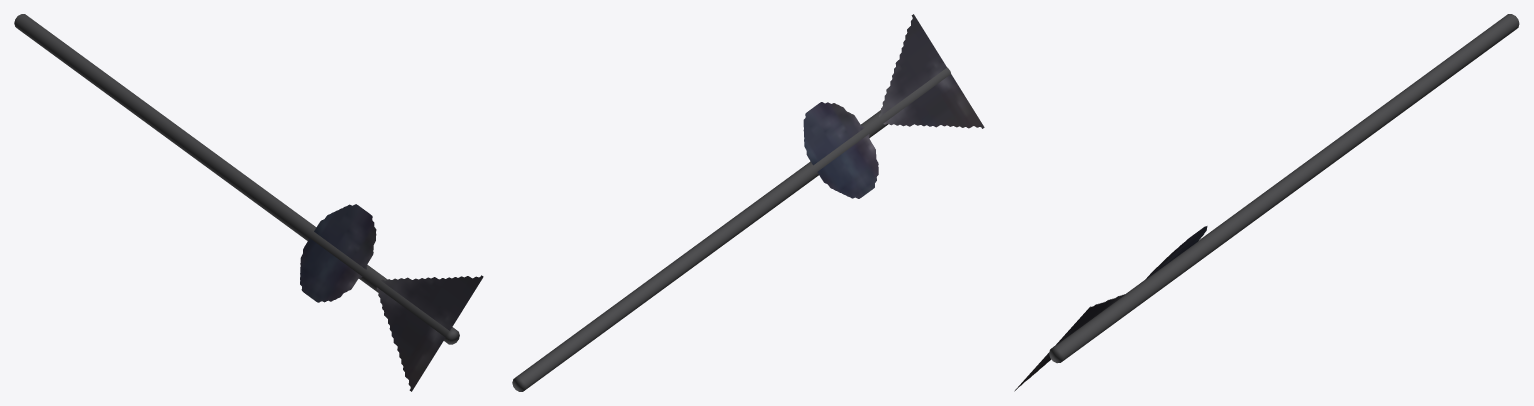
The model's file is sign_3.glb.
3 views of the same model, side by side, from view 1: azimuth 30°, elevation 25°; view 2: azimuth 150°, elevation 25°; view 3: azimuth 330°, elevation 25° (orthographic). The views are drawn at different scales.
Parts seen in each view (by area): view 1: sign_3; view 2: sign_3; view 3: sign_3.
Boxes of the visible parts, x1,y1,x2,y2 form: sign_3: (14,14,483,391); sign_3: (512,14,984,391); sign_3: (1014,14,1519,391).
Bounding box in the file's own units: 0.00767 × 0.00994 × 0.0796.
2 materials, 1 textured.
